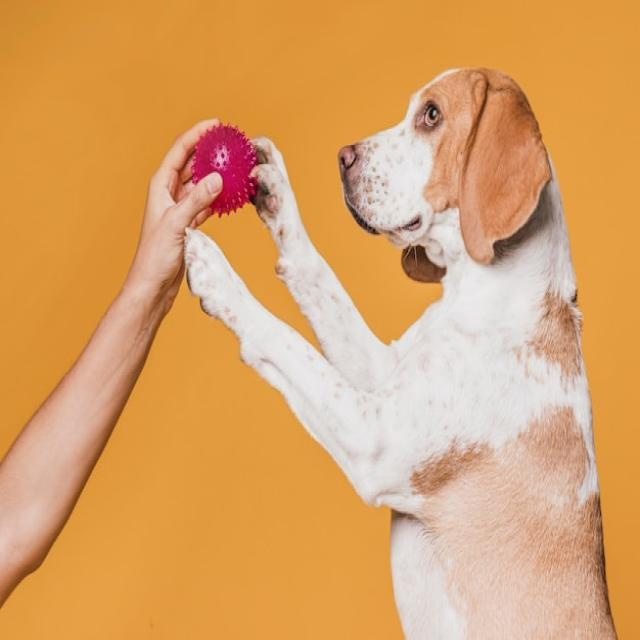Dog: (187, 66, 617, 640)
